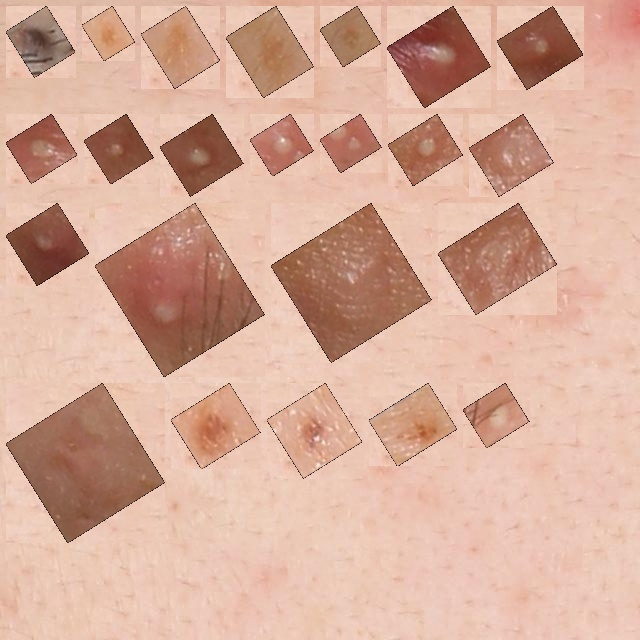hypertrophic_scar: (282, 214, 420, 351), (17, 394, 154, 532), (449, 214, 546, 303), (480, 125, 542, 185)
melasma: (237, 17, 303, 86), (152, 17, 209, 77), (331, 17, 370, 56), (93, 17, 124, 50)
nevus: (278, 394, 351, 467), (182, 394, 249, 458), (380, 394, 446, 455), (17, 17, 64, 66)
pustule: (106, 214, 253, 366), (398, 17, 480, 97), (508, 17, 572, 78), (171, 125, 232, 185), (17, 214, 78, 274), (399, 125, 452, 174), (17, 125, 66, 172), (95, 125, 142, 173), (474, 394, 518, 437), (261, 125, 302, 165), (331, 125, 370, 161)
